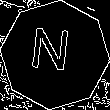N_S: (33, 28, 77, 82)
